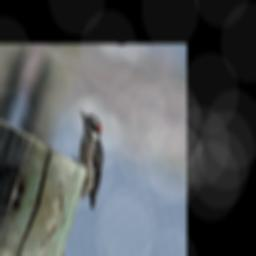Woodpecker: (55, 108, 119, 211)
